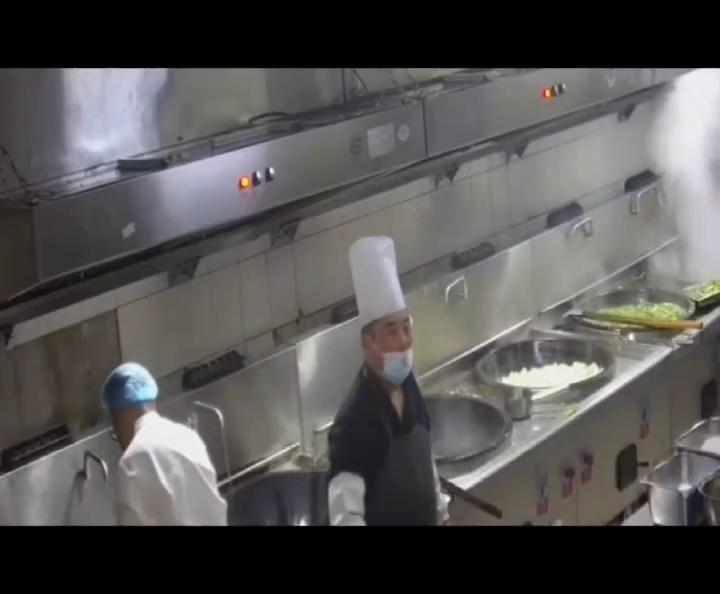mask: (376, 329, 416, 379)
